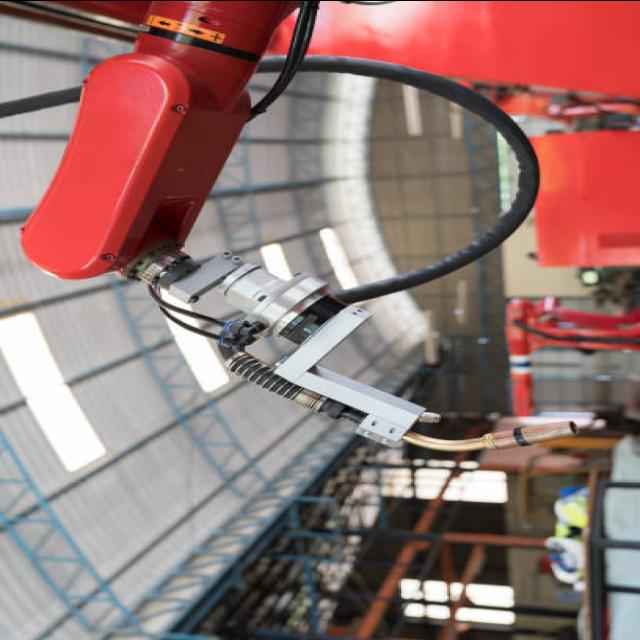Robotic-arm: (12, 1, 454, 448)
